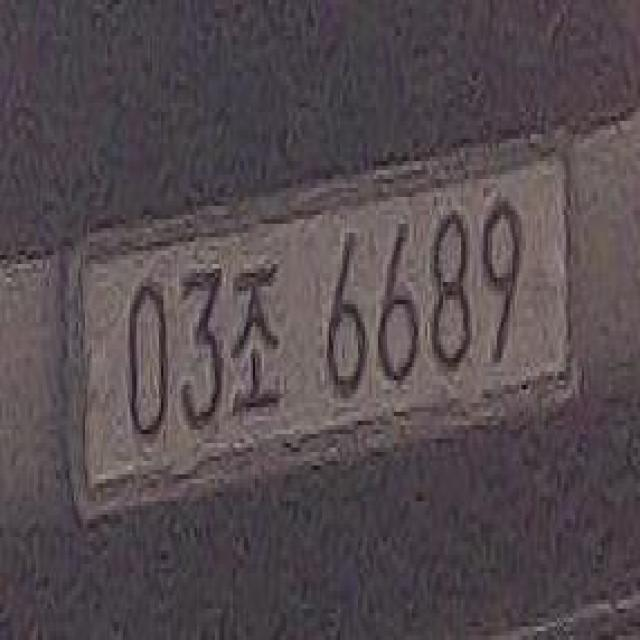illegal_plate: (83, 158, 567, 491)
